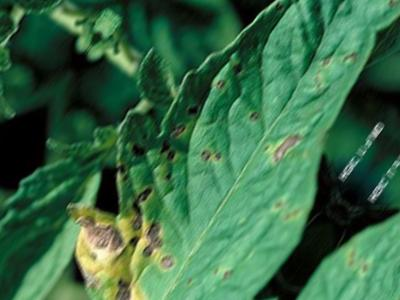Tomato Early blight leaf: (24, 0, 400, 300)
